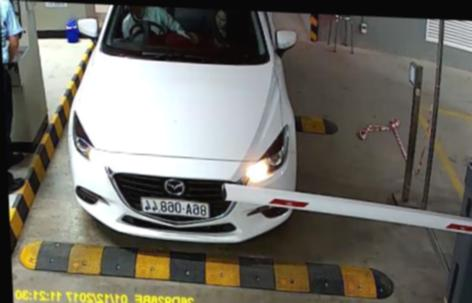License_Plate: (139, 195, 214, 220)
